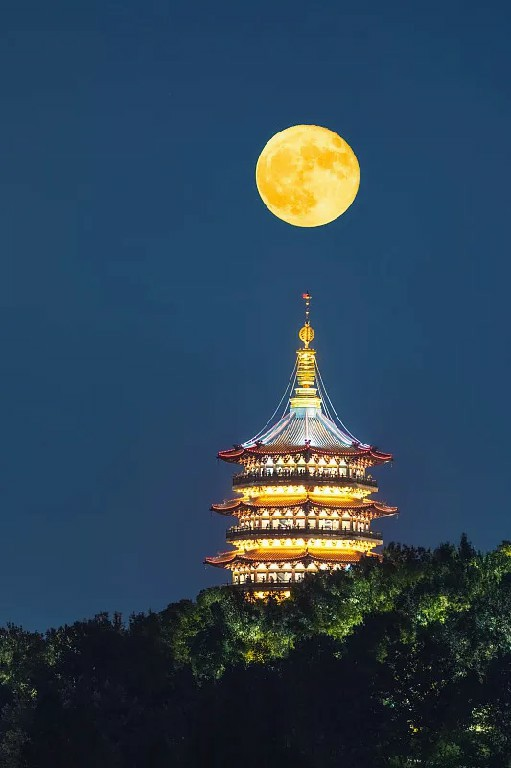Leifeng: (202, 290, 398, 605)
